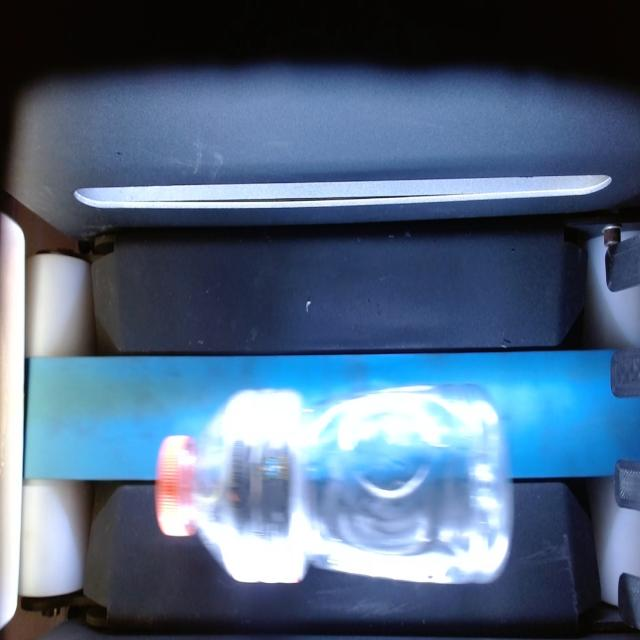bottom: (455, 384, 514, 589)
cap: (152, 437, 200, 537)
